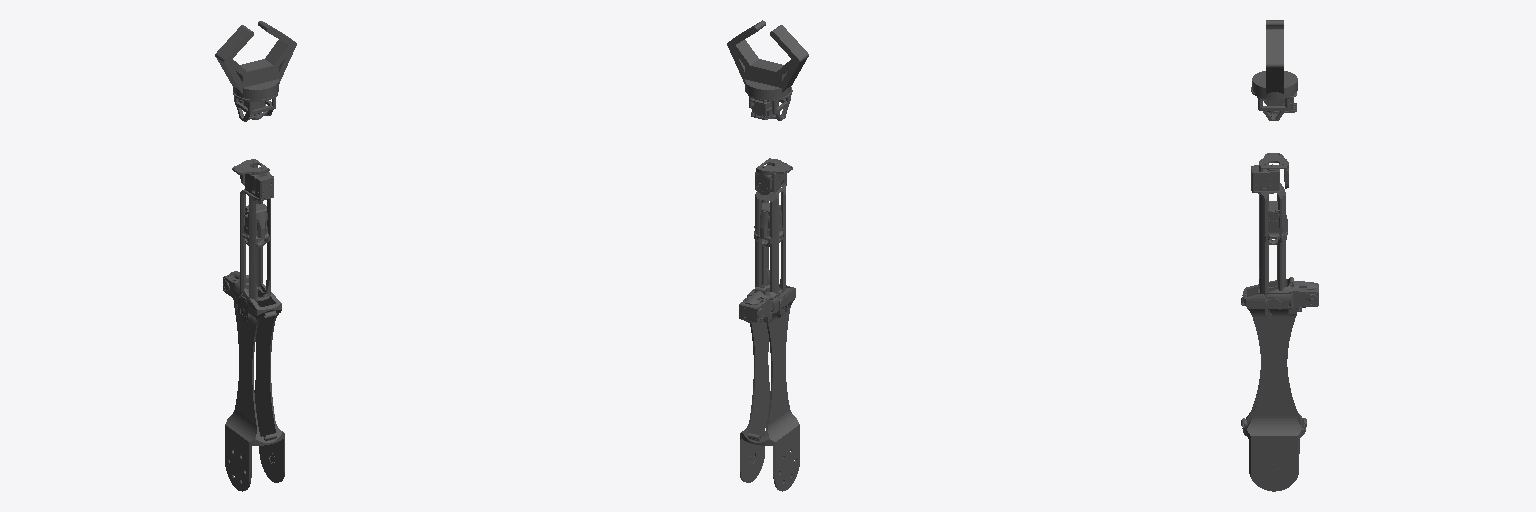
URDF robot description (dofarm_description):
<?xml version="1.0" encoding="utf-8"?>
<!-- =================================================================================== -->
<!-- |    This document was autogenerated by xacro from robot.xacro                    | -->
<!-- |    EDITING THIS FILE BY HAND IS NOT RECOMMENDED                                 | -->
<!-- =================================================================================== -->
<robot name="dofarm_description">
  <material name="black">
    <color rgba="0.0 0.0 0.0 1.0"/>
  </material>
  <material name="blue">
    <color rgba="0.0 0.0 0.8 1.0"/>
  </material>
  <material name="green">
    <color rgba="0.0 0.8 0.0 1.0"/>
  </material>
  <material name="grey">
    <color rgba="0.2 0.2 0.2 1.0"/>
  </material>
  <material name="silver">
    <color rgba="0.913725490196 0.913725490196 0.847058823529 1.0"/>
  </material>
  <material name="orange">
    <color rgba="1.0 0.423529411765 0.0392156862745 1.0"/>
  </material>
  <material name="brown">
    <color rgba="0.870588235294 0.811764705882 0.764705882353 1.0"/>
  </material>
  <material name="red">
    <color rgba="0.8 0.0 0.0 1.0"/>
  </material>
  <material name="white">
    <color rgba="1.0 1.0 1.0 1.0"/>
  </material>
  
    <material name="interbotix_black">
    <color rgba="0.4 0.4 0.4 1"/>
  </material>

 <link name="base">
    <visual>
      <origin rpy="1.57 0 -3.14" xyz="0 0 0"/>
      <geometry>
        <mesh filename="package://dofarm/base.STL" scale="0.001 0.001 0.001"/>
      </geometry>
      <material name="interbotix_black"/>
    </visual>
    <collision>
      <origin rpy="1.57 0 -3.14" xyz="0 0 0"/>
      <geometry>
        <mesh filename="package://dofarm/base.STL" scale="0.001 0.001 0.001"/>
      </geometry>
    </collision>
    <inertial> 
            <mass value="0.1"/>
            <inertia ixx="0" ixy="0" ixz="0" iyy="0" iyz="0" izz="0"/>
        </inertial> 
        <contact> 
            <lateral_friction value="1"/>
        </contact>
  </link>

 <link name="waist">
    <visual>
      <origin rpy="0 0 0" xyz="0 0 0"/>
      <geometry>
        <mesh filename="package://dofarm/waist.stl" scale="0.001 0.001 0.001"/>
      </geometry>
      <material name="interbotix_black"/>
    </visual>
    <collision>
      <origin rpy="0 0 0" xyz="0 0 0"/>
      <geometry>
        <mesh filename="package://dofarm/waist.stl" scale="0.001 0.001 0.001"/>
      </geometry>
    </collision>
    <inertial> 
            <mass value="0.1"/>
            <inertia ixx="0" ixy="0" ixz="0" iyy="0" iyz="0" izz="0"/>
        </inertial> 
        <contact> 
            <lateral_friction value="1"/>
        </contact>
  </link>

  <joint name="base_waist" type="revolute">
    <origin rpy="0 0 0" xyz="-0.055 0.082 0.054"/>
    <parent link="base"/>
    <child link="waist"/>
    <axis xyz="0 0 1"/>
    <dynamics damping="0" friction="0"/>
    <limit effort="100" lower="-3.14" upper="3.14" velocity="20"/>
  </joint>

 <link name="shoulder">
    <visual>
      <origin rpy="0 0 0" xyz="0 0 0"/>
      <geometry>
        <mesh filename="package://dofarm/shoulder.stl" scale="0.001 0.001 0.001"/>
      </geometry>
      <material name="interbotix_black"/>
    </visual>
    <collision>
      <origin rpy="0 0 0" xyz="0 0 0"/>
      <geometry>
        <mesh filename="package://dofarm/shoulder.stl" scale="0.001 0.001 0.001"/>
      </geometry>
    </collision>
    <inertial> 
            <mass value="0.1"/>
            <inertia ixx="0" ixy="0" ixz="0" iyy="0" iyz="0" izz="0"/>
        </inertial> 
        <contact> 
            <lateral_friction value="1"/>
        </contact>
  </link>

  <joint name="waist_shoulder" type="revolute">
    <origin rpy="0 0 -1.57" xyz="0 0 0.07"/>
    <parent link="waist"/>
    <child link="shoulder"/>
    <axis xyz="1 0 0"/>
    <dynamics damping="0" friction="0"/>
    <limit effort="100" lower="-1.57" upper="1.57" velocity="20"/>
  </joint>

 <link name="arm">
    <visual>
      <origin rpy="0 0 0" xyz="0 0 0"/>
      <geometry>
        <mesh filename="package://dofarm/arm.stl" scale="0.001 0.001 0.001"/>
      </geometry>
      <material name="interbotix_black"/>
    </visual>
    <collision>
      <origin rpy="0 0 0" xyz="0 0 0"/>
      <geometry>
        <mesh filename="package://dofarm/arm.stl" scale="0.001 0.001 0.001"/>
      </geometry>
    </collision>
    <inertial> 
            <mass value="0.1"/>
            <inertia ixx="0" ixy="0" ixz="0" iyy="0" iyz="0" izz="0"/>
        </inertial> 
        <contact> 
            <lateral_friction value="1"/>
        </contact>
  </link>

  <joint name="shoulder_arm" type="revolute">
    <origin rpy="0 0 0" xyz="0 0 0.168"/>
    <parent link="shoulder"/>
    <child link="arm"/>
    <axis xyz="0 0 1"/>
    <dynamics damping="0" friction="0"/>
    <limit effort="100" lower="-3.14" upper="3.14" velocity="20"/>
  </joint>

 <link name="forearm">
    <visual>
      <origin rpy="0 0 0" xyz="0 0 0"/>
      <geometry>
        <mesh filename="package://dofarm/forearm.stl" scale="0.001 0.001 0.001"/>
      </geometry>
      <material name="interbotix_black"/>
    </visual>
    <collision>
      <origin rpy="0 0 0" xyz="0 0 0"/>
      <geometry>
        <mesh filename="package://dofarm/forearm.stl" scale="0.001 0.001 0.001"/>
      </geometry>
    </collision>
    <inertial> 
            <mass value="0.1"/>
            <inertia ixx="0" ixy="0" ixz="0" iyy="0" iyz="0" izz="0"/>
        </inertial> 
        <contact> 
            <lateral_friction value="1"/>
        </contact>
  </link>

  <joint name="arm_forearm" type="revolute">
    <origin rpy="0 0 0" xyz="0 0 0.11"/>
    <parent link="arm"/>
    <child link="forearm"/>
    <axis xyz="0 1 0"/>
    <dynamics damping="0" friction="0"/>
    <limit effort="100" lower="-1.57" upper="1.57" velocity="20"/>
  </joint>

 <link name="wrist">
    <visual>
      <origin rpy="0 0 0" xyz="0 0 0"/>
      <geometry>
        <mesh filename="package://dofarm/wrist.stl" scale="0.001 0.001 0.001"/>
      </geometry>
      <material name="interbotix_black"/>
    </visual>
    <collision>
      <origin rpy="0 0 0" xyz="0 0 0"/>
      <geometry>
        <mesh filename="package://dofarm/wrist.stl" scale="0.001 0.001 0.001"/>
      </geometry>
    </collision>
    <inertial> 
            <mass value="0.1"/>
            <inertia ixx="0" ixy="0" ixz="0" iyy="0" iyz="0" izz="0"/>
        </inertial> 
        <contact> 
            <lateral_friction value="1"/>
        </contact>
  </link>

  <joint name="forearm_wrist" type="revolute">
    <origin rpy="0 0 0" xyz="0 0 0.12"/>
    <parent link="forearm"/>
    <child link="wrist"/>
    <axis xyz="0 0 1"/>
    <dynamics damping="0" friction="0"/>
    <limit effort="100" lower="-3.14" upper="3.14" velocity="20"/>
  </joint>

 <link name="wrist2">
    <visual>
      <origin rpy="0 0 0" xyz="0 0 0"/>
      <geometry>
        <mesh filename="package://dofarm/wrist2.stl" scale="0.001 0.001 0.001"/>
      </geometry>
      <material name="interbotix_black"/>
    </visual>
    <collision>
      <origin rpy="0 0 0" xyz="0 0 0"/>
      <geometry>
        <mesh filename="package://dofarm/wrist2.stl" scale="0.001 0.001 0.001"/>
      </geometry>
    </collision>
    <inertial> 
            <mass value="0.1"/>
            <inertia ixx="0" ixy="0" ixz="0" iyy="0" iyz="0" izz="0"/>
        </inertial> 
        <contact> 
            <lateral_friction value="1"/>
        </contact>
  </link>

  <joint name="wrist_wrist2" type="revolute">
    <origin rpy="0 0 -1.57" xyz="0 0 0.11"/>
    <parent link="wrist"/>
    <child link="wrist2"/>
    <axis xyz="1 0 0"/>
    <dynamics damping="0" friction="0"/>
    <limit effort="100" lower="-1.57" upper="1.57" velocity="20"/>
  </joint>

<link name="wrist3">
    <visual>
      <origin rpy="0 0 0" xyz="0 0 0"/>
      <geometry>
        <mesh filename="package://dofarm/ee_wrist.stl" scale="0.001 0.001 0.001"/>
      </geometry>
      <material name="interbotix_black"/>
    </visual>
    <collision>
      <origin rpy="0 0 0" xyz="0 0 0"/>
      <geometry>
        <mesh filename="package://dofarm/ee_wrist.stl" scale="0.001 0.001 0.001"/>
      </geometry>
    </collision>
    <inertial> 
            <mass value="0.11"/>
            <inertia ixx="0" ixy="1" ixz="0" iyy="0" iyz="0" izz="1"/>
        </inertial> 
        <contact> 
            <lateral_friction value="1"/>
        </contact>
  </link>

  <joint name="wrist2_wrist3" type="revolute">
    <origin rpy="0 0 0" xyz="0 0 0.12"/>
    <parent link="wrist2"/>
    <child link="wrist3"/>
    <axis xyz="0 0 1"/>
    <dynamics damping="0" friction="0"/>
    <limit effort="100" lower="-3.14" upper="3.14" velocity="20"/>
  </joint>

<link name="ee">
    <visual>
      <origin rpy="0 0 0" xyz="0 0 0"/>
      <geometry>
        <mesh filename="package://dofarm/ee.stl" scale="0.001 0.001 0.001"/>
      </geometry>
      <material name="interbotix_black"/>
    </visual>
    <collision>
      <origin rpy="0 0 0" xyz="0 0 0"/>
      <geometry>
        <mesh filename="package://dofarm/ee.stl" scale="0.001 0.001 0.001"/>
      </geometry>
    </collision>
    <inertial> 
            <mass value="0.11"/>
            <inertia ixx="0" ixy="1" ixz="0" iyy="0" iyz="0" izz="1"/>
        </inertial> 
        <contact> 
            <lateral_friction value="1"/>
        </contact>
  </link>

  <joint name="wrist3_ee" type="fixed">
    <origin rpy="0 0 0" xyz="0 0 0.047"/>
    <parent link="wrist3"/>
    <child link="ee"/>
  </joint>

</robot>

--- Facts derived from the render (not from the file) ---
The picture shows the robot from 3 angles, left to right: view 1: azimuth 30°, elevation 25°; view 2: azimuth 150°, elevation 25°; view 3: azimuth 270°, elevation 25°; orthographic projection.
Model dofarm_description with 9 links and 8 joints (7 revolute, 1 fixed), rooted at base, posed every joint at zero.
Visible links, largest first — view 1: shoulder, ee, forearm, wrist3, wrist, wrist2; view 2: shoulder, ee, forearm, wrist3, wrist2, wrist; view 3: shoulder, forearm, ee, wrist3, wrist.
Link boxes in pixels (x1,y1,x2,y2): shoulder: (223, 271, 284, 491); ee: (215, 21, 296, 99); forearm: (238, 167, 273, 320); wrist3: (233, 92, 277, 121); wrist: (242, 204, 269, 246); wrist2: (232, 159, 269, 191); shoulder: (739, 284, 799, 491); ee: (727, 20, 808, 99); forearm: (755, 163, 787, 318); wrist3: (748, 87, 792, 120); wrist2: (755, 158, 792, 194); wrist: (754, 202, 784, 246); shoulder: (1241, 277, 1318, 491); forearm: (1251, 164, 1285, 318); ee: (1252, 20, 1297, 98); wrist3: (1251, 87, 1296, 120); wrist: (1265, 201, 1287, 244).
Bounding box of the posed robot: 0.1379 × 0.1274 × 0.833 m (x, y, z).
Meshes: 9 distinct files referenced, 6 mesh visuals loaded (6 binary STL); not drawn: 3 (reference not matched to a file when rendering).